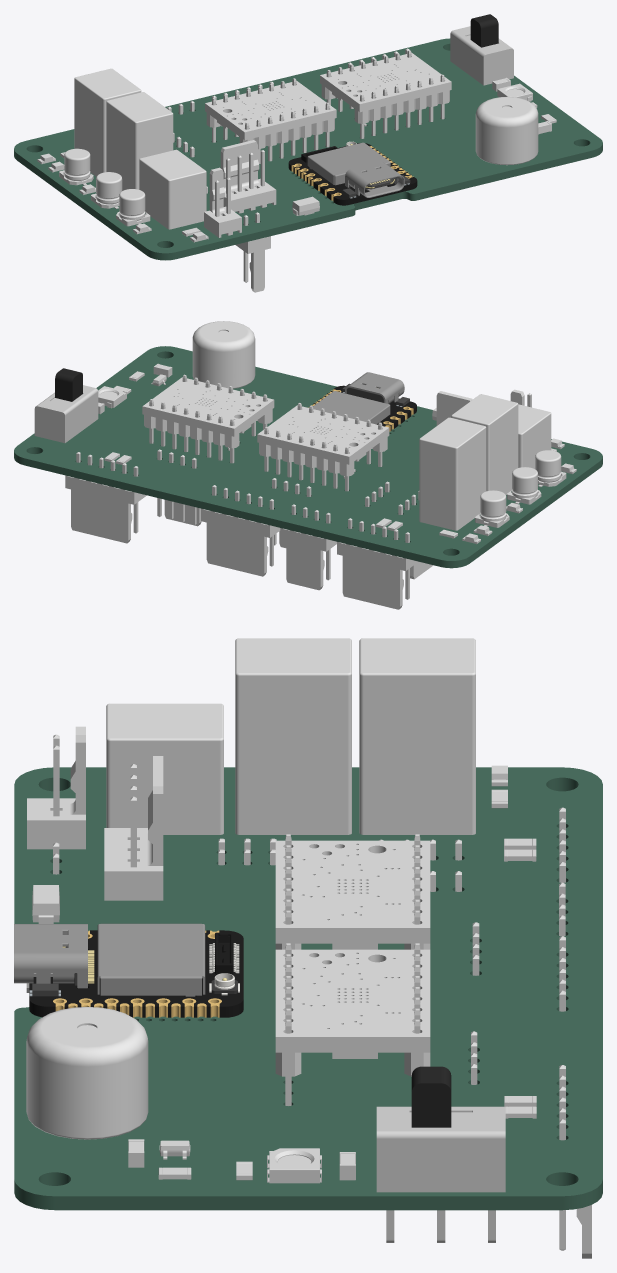
Rendered from NinjaPAMI-2026.glb.
The picture shows the model from 3 angles, top to bottom: view 1: azimuth 30°, elevation 25°; view 2: azimuth 150°, elevation 25°; view 3: azimuth 270°, elevation 25°; orthographic projection. The views are drawn at different scales.
Visible parts, largest first — view 1: =>[0:1:1:25], U4, U3, U6, U1, BZ1, U7, J11, Body, Shield:1, =>[0:1:1:35], J15 (+8 smaller); view 2: =>[0:1:1:25], U3, U4, U7, J4, J5, J6, BZ1, U6, J12, Body, U1 (+11 smaller); view 3: =>[0:1:1:25], U6, U7, U4, U3, BZ1, U1, Body, Shield:1, =>[0:1:1:35], J11, CHAMFER9:1 (+7 smaller).
Part boxes in pixels (x1=…): =>[0:1:1:25]: x1=14, y1=38, x2=602, y2=260; U4: x1=320, y1=50, x2=451, y2=138; U3: x1=205, y1=78, x2=336, y2=163; U6: x1=106, y1=92, x2=173, y2=190; U1: x1=139, y1=149, x2=206, y2=229; BZ1: x1=475, y1=96, x2=538, y2=165; U7: x1=74, y1=68, x2=141, y2=176; J11: x1=220, y1=140, x2=276, y2=213; Body: x1=450, y1=26, x2=513, y2=85; Shield:1: x1=307, y1=142, x2=390, y2=185; =>[0:1:1:35]: x1=288, y1=143, x2=417, y2=205; J15: x1=204, y1=167, x2=241, y2=237; =>[0:1:1:25]: x1=14, y1=346, x2=602, y2=568; U3: x1=257, y1=403, x2=389, y2=491; U4: x1=142, y1=374, x2=274, y2=463; U7: x1=419, y1=417, x2=486, y2=530; J4: x1=65, y1=452, x2=146, y2=543; J5: x1=201, y1=485, x2=280, y2=576; J6: x1=337, y1=518, x2=418, y2=609; BZ1: x1=192, y1=321, x2=255, y2=388; U6: x1=451, y1=394, x2=518, y2=494; J12: x1=280, y1=504, x2=336, y2=590; Body: x1=34, y1=385, x2=98, y2=443; U1: x1=518, y1=404, x2=551, y2=468; =>[0:1:1:25]: x1=14, y1=767, x2=602, y2=1210; U6: x1=235, y1=638, x2=351, y2=834; U7: x1=359, y1=638, x2=475, y2=834; U4: x1=275, y1=943, x2=430, y2=1105; U3: x1=275, y1=834, x2=430, y2=949; BZ1: x1=26, y1=1007, x2=148, y2=1139; U1: x1=106, y1=703, x2=223, y2=834; Body: x1=376, y1=1106, x2=505, y2=1192; Shield:1: x1=97, y1=923, x2=205, y2=996; =>[0:1:1:35]: x1=29, y1=930, x2=243, y2=1017; J11: x1=104, y1=756, x2=163, y2=900; CHAMFER9:1: x1=14, y1=924, x2=87, y2=988.
Bounding box in the file's own units: 0.1 × 0.031 × 0.058.
